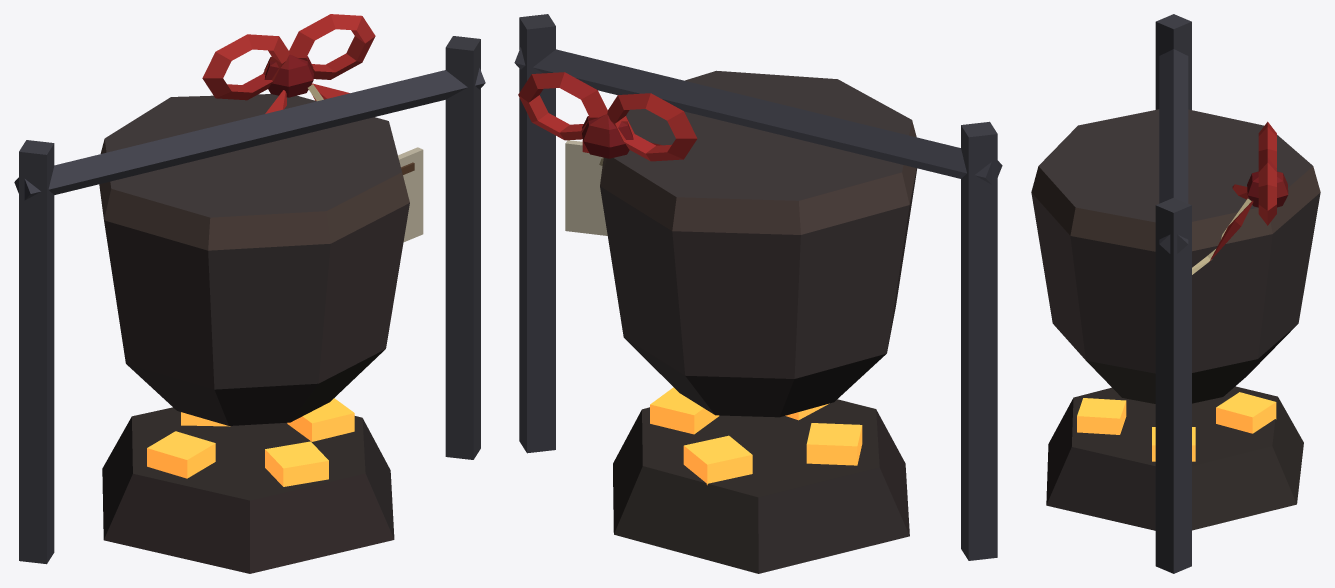
The model's file is quest_crucible.glb.
3 views of the same model, side by side, from view 1: azimuth 30°, elevation 25°; view 2: azimuth 150°, elevation 25°; view 3: azimuth 270°, elevation 25° (orthographic). The views are drawn at different scales.
Parts seen in each view (by area): view 1: quest_crucible; view 2: quest_crucible; view 3: quest_crucible.
Boxes of the visible parts, x1,y1,x2,y2 form: quest_crucible: (14,14,485,573); quest_crucible: (514,14,1002,573); quest_crucible: (1031,14,1320,573).
Size of the model in its own units: 0.4 by 0.3465 by 0.2458.
